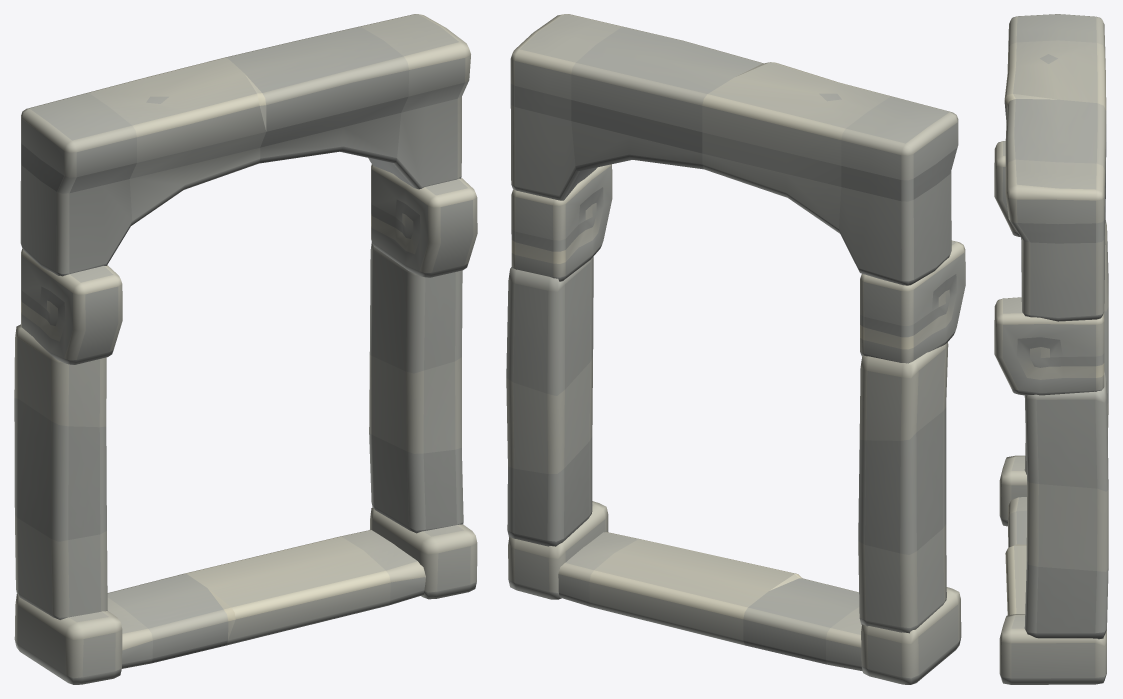
The model's file is door_frame_arch_ornate_stone_LOD_setup.fbx.
3 renders of one model, left to right at view 1: azimuth 30°, elevation 25°; view 2: azimuth 150°, elevation 25°; view 3: azimuth 270°, elevation 25°, orthographic. The views are drawn at different scales.
Visible parts, largest first — view 1: door_frame_arch_ornate_stone_LOD0; view 2: door_frame_arch_ornate_stone_LOD0; view 3: door_frame_arch_ornate_stone_LOD0.
Boxes of the visible parts, bbox=[...] form: door_frame_arch_ornate_stone_LOD0: bbox=[14, 14, 477, 684]; door_frame_arch_ornate_stone_LOD0: bbox=[506, 14, 965, 684]; door_frame_arch_ornate_stone_LOD0: bbox=[994, 14, 1108, 684].
Size of what is drawn, in the model's own units: 259 by 330 by 68.53.
